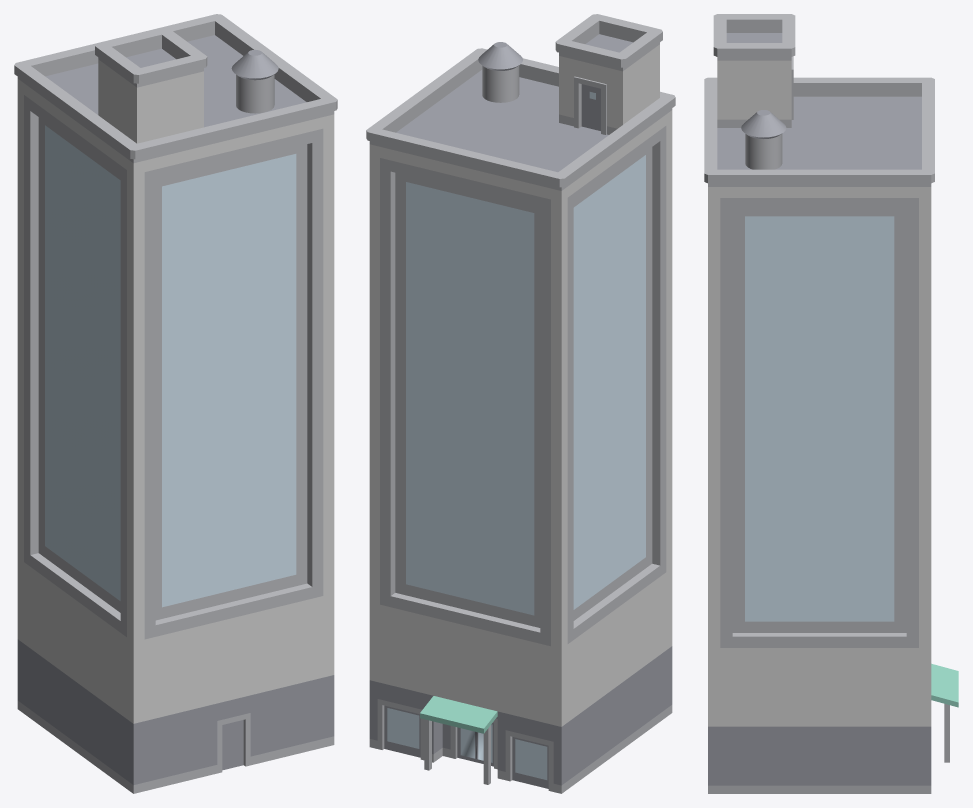
File: skyc.fbx
3 views of the same model, side by side, from view 1: azimuth 30°, elevation 25°; view 2: azimuth 150°, elevation 25°; view 3: azimuth 270°, elevation 25° (orthographic). The views are drawn at different scales.
Visible parts, largest first — view 1: skyscraperC; view 2: skyscraperC; view 3: skyscraperC.
Boxes of the visible parts, x1,y1,x2,y2 form: skyscraperC: (14,14,337,793); skyscraperC: (366,14,675,793); skyscraperC: (704,14,958,793).
Size of the model in its own units: 248 by 816 by 274.
